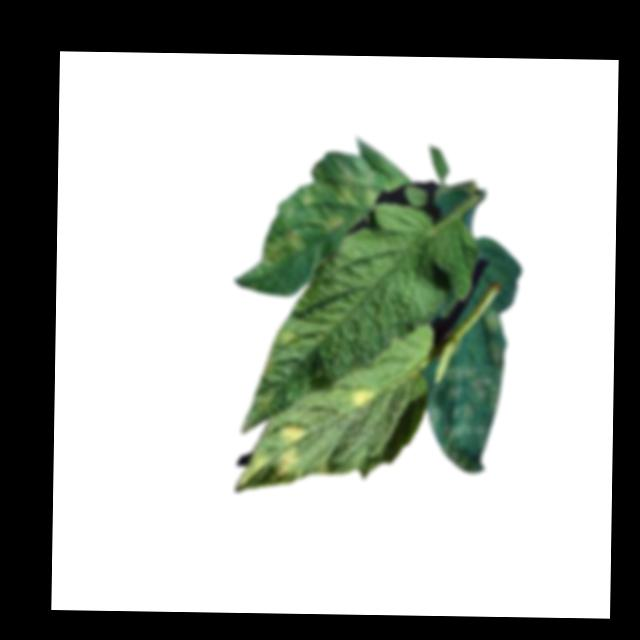Leaf_Mold: (255, 154, 401, 271), (425, 309, 508, 474), (234, 419, 311, 495), (276, 325, 310, 355), (350, 382, 379, 408)
